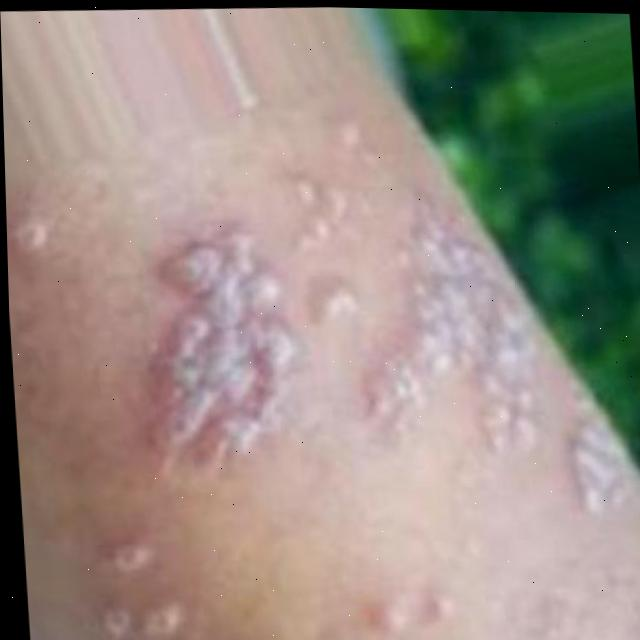Shingles: (159, 204, 640, 523)
